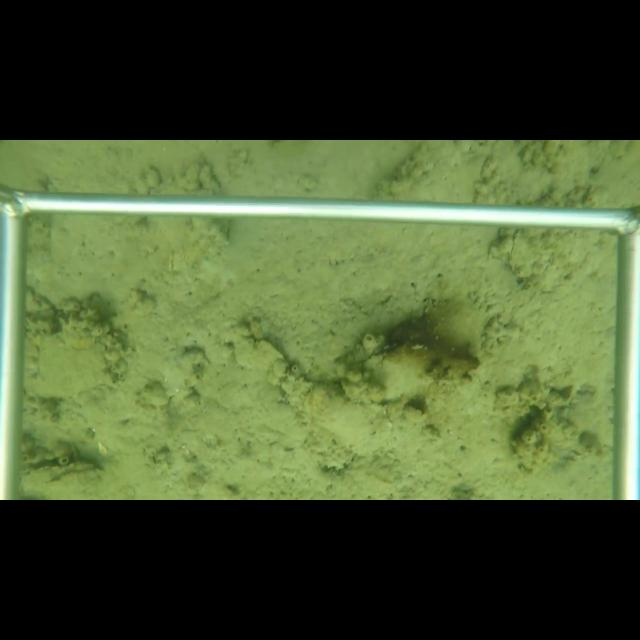Oyster-Closed: (284, 379, 396, 460), (36, 325, 118, 402)
